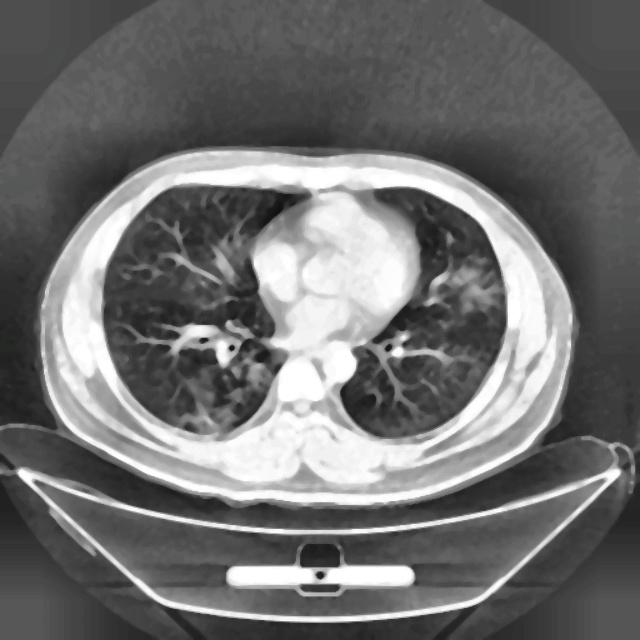covid: (37, 145, 577, 507)
